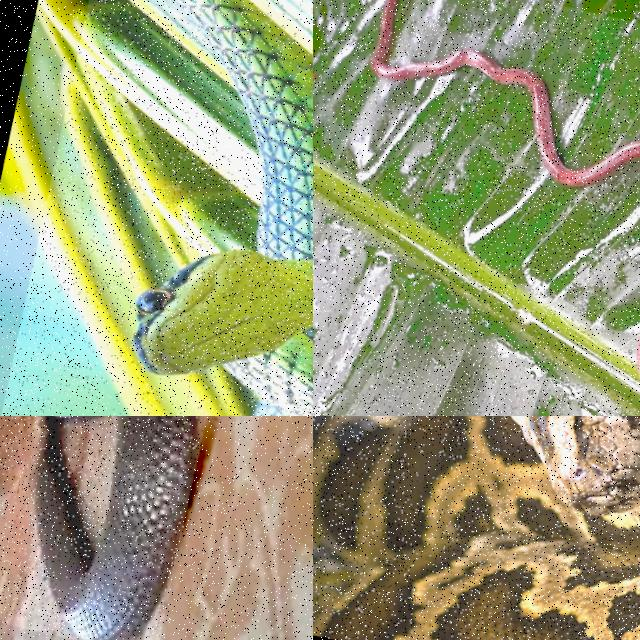Calliophis maculiceps: (370, 0, 639, 185)
Chrysopelea ornata: (138, 0, 312, 415)
Naja kaouthia: (35, 416, 195, 639)
Python bivittatus: (313, 416, 639, 639)
